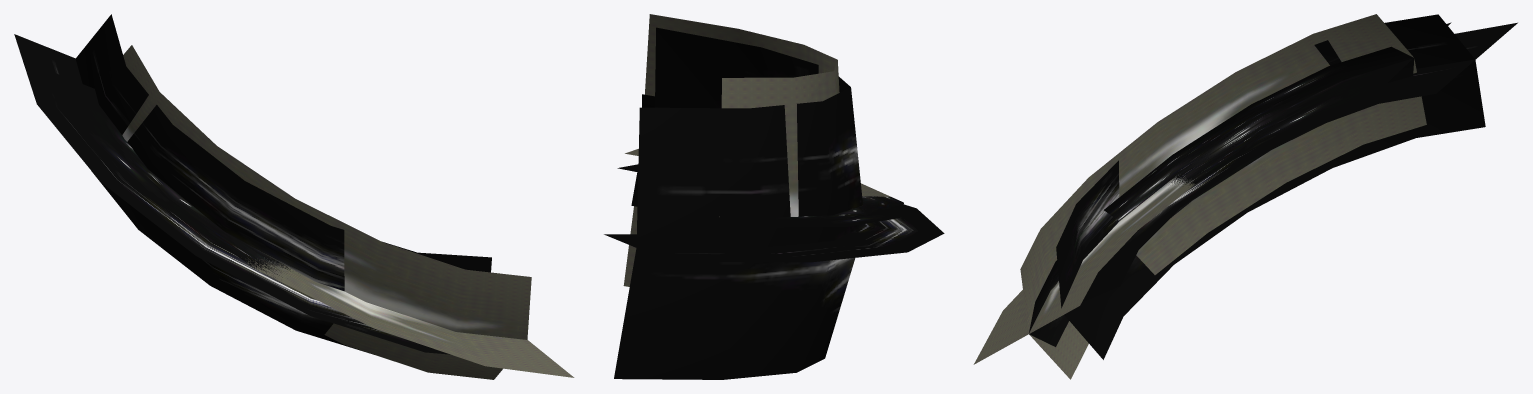
The model's file is Effect_1001tattack.fbx.
3 renders of one model, left to right at view 1: azimuth 30°, elevation 25°; view 2: azimuth 150°, elevation 25°; view 3: azimuth 270°, elevation 25°, orthographic. The views are drawn at different scales.
Visible parts, largest first — view 1: Effect_1001tattack03, Effect_1001tattack01, Effect_1001tattack02; view 2: Effect_1001tattack03, Effect_1001tattack01, Effect_1001tattack02; view 3: Effect_1001tattack01, Effect_1001tattack03, Effect_1001tattack02.
Part boxes in pixels (x1=…): Effect_1001tattack03: x1=14, y1=14, x2=491, y2=354; Effect_1001tattack01: x1=122, y1=45, x2=574, y2=379; Effect_1001tattack02: x1=38, y1=66, x2=290, y2=277; Effect_1001tattack03: x1=604, y1=27, x2=944, y2=379; Effect_1001tattack01: x1=623, y1=14, x2=890, y2=286; Effect_1001tattack02: x1=631, y1=94, x2=903, y2=227; Effect_1001tattack01: x1=973, y1=14, x2=1426, y2=379; Effect_1001tattack03: x1=1056, y1=14, x2=1517, y2=359; Effect_1001tattack02: x1=1029, y1=22, x2=1451, y2=346.
Size of the model in its own units: 2.39 by 2.05 by 3.72.
Materials: 3 (3 with a texture image).
